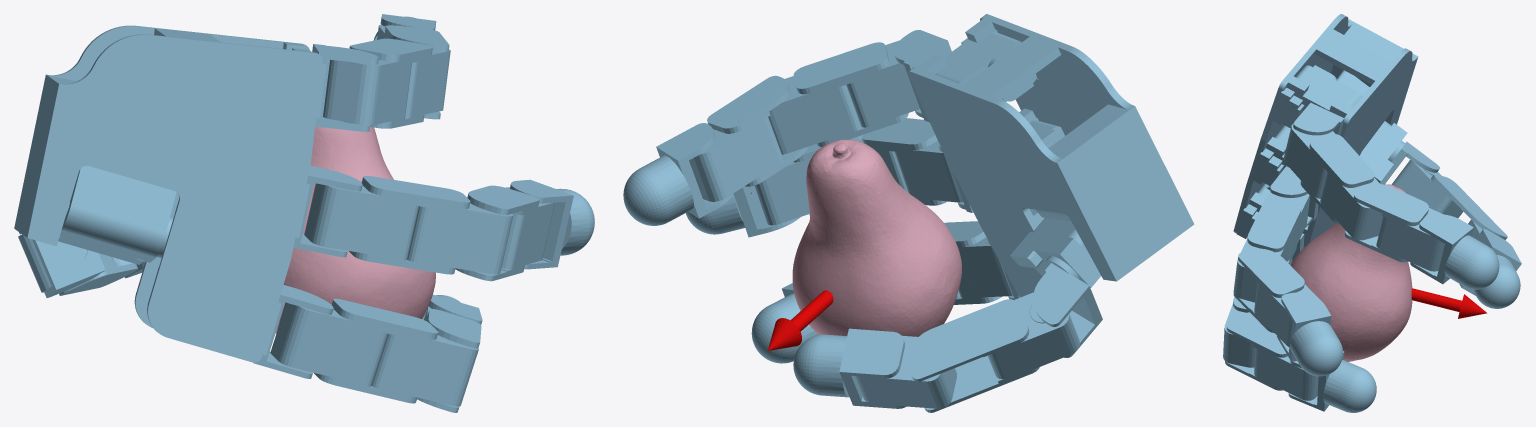
3 views of the same model, side by side, from view 1: azimuth 30°, elevation 25°; view 2: azimuth 150°, elevation 25°; view 3: azimuth 270°, elevation 25° (orthographic). The views are drawn at different scales.
Visible parts, largest first — view 1: world, pear.stl; view 2: world, pear.stl; view 3: world, pear.stl.
Boxes of the visible parts, x1=… form: world: x1=14, y1=14, x2=594, y2=412; pear.stl: x1=276, y1=126, x2=435, y2=333; world: x1=623, y1=14, x2=1194, y2=412; pear.stl: x1=792, y1=139, x2=961, y2=336; world: x1=1223, y1=14, x2=1521, y2=412; pear.stl: x1=1290, y1=184, x2=1412, y2=361.
Size of the model in its own units: 0.2314 by 0.163 by 0.1527.
